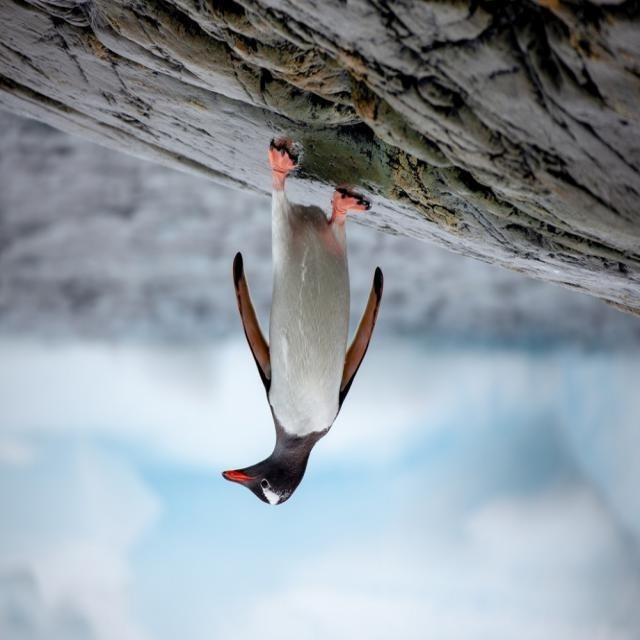penguin: (221, 138, 383, 507)
